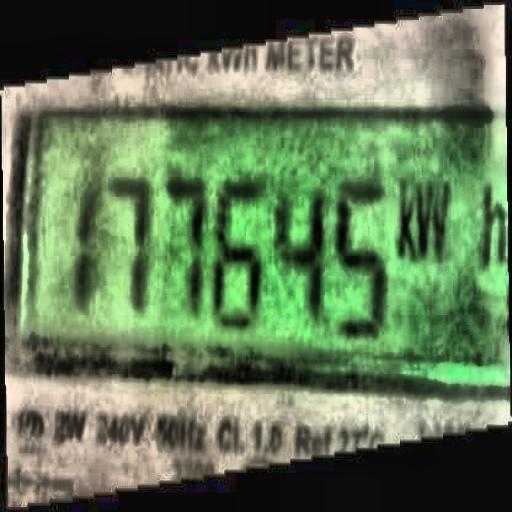DISPLAY_REGION: (15, 104, 512, 387)
SERIAL_REGION: (73, 170, 454, 339)
